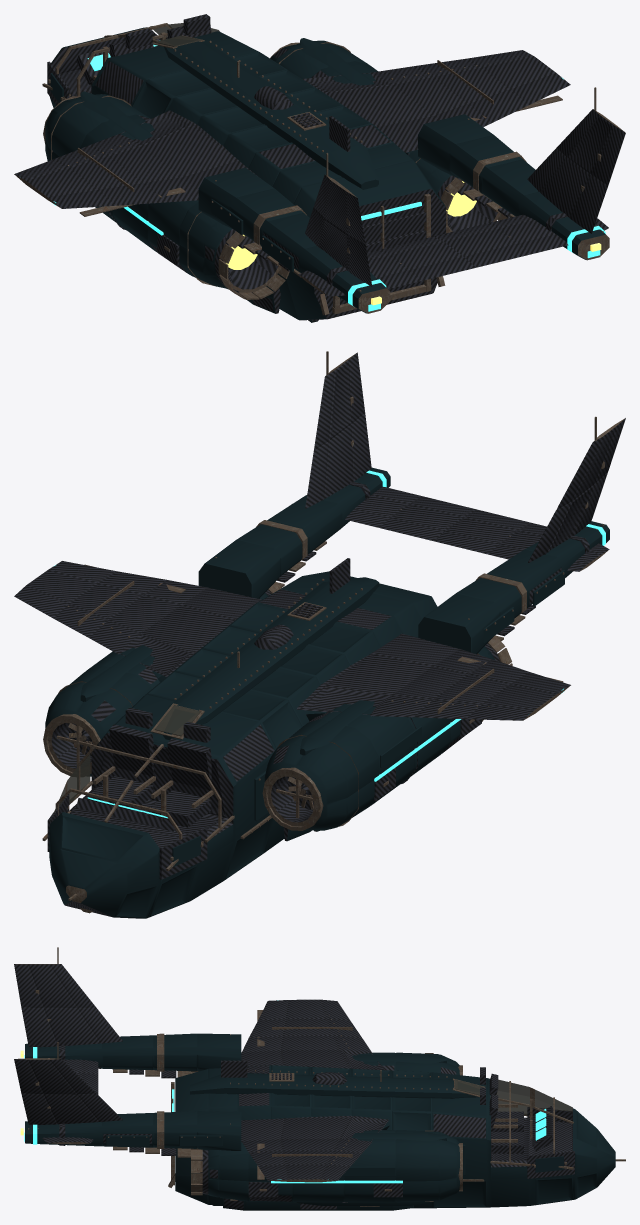
3 renders of one model, top to bottom at view 1: azimuth 30°, elevation 25°; view 2: azimuth 150°, elevation 25°; view 3: azimuth 270°, elevation 25°, orthographic. The views are drawn at different scales.
Parts seen in each view (by area): view 1: kb7_core, kb7_tail_r, kb7_wing_r, kb7_wing_l, kb7_tail_l; view 2: kb7_core, kb7_tail_r, kb7_wing_r, kb7_wing_l, kb7_tail_l; view 3: kb7_core, kb7_tail_l, kb7_tail_r, kb7_wing_l, kb7_wing_r.
Part boxes in pixels (box(x1,y1,x2,y2)): kb7_core: box(42, 14, 609, 322); kb7_tail_r: box(434, 87, 625, 267); kb7_wing_r: box(371, 50, 570, 127); kb7_wing_l: box(14, 134, 198, 216); kb7_tail_l: box(298, 153, 475, 296); kb7_core: box(42, 467, 609, 918); kb7_tail_r: box(305, 351, 476, 541); kb7_wing_r: box(14, 561, 207, 654); kb7_wing_l: box(370, 649, 570, 720); kb7_tail_l: box(434, 416, 625, 571); kb7_core: box(20, 1033, 625, 1210); kb7_tail_l: box(14, 947, 122, 1093); kb7_tail_r: box(14, 1042, 122, 1144); kb7_wing_l: box(242, 999, 371, 1052); kb7_wing_r: box(242, 1138, 371, 1182).
Bounding box in the file's own units: 5.8 × 2.95 × 8.34.
16 materials, 10 textured.
